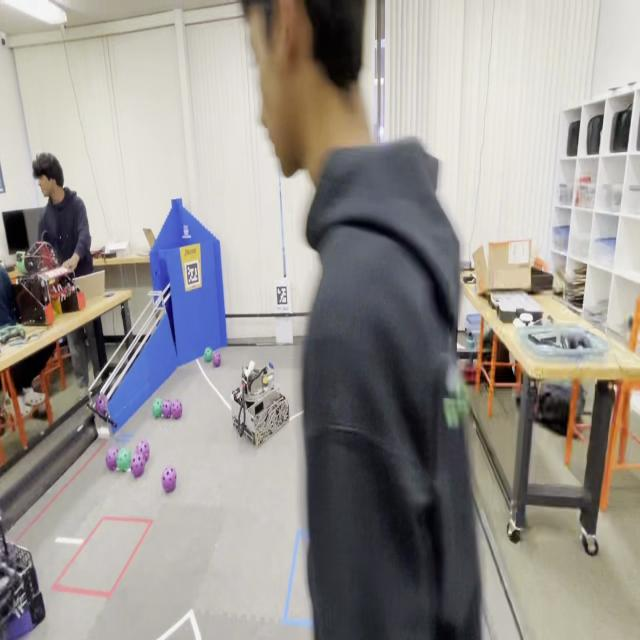artifact_green: (116, 448, 132, 472), (16, 252, 26, 274), (152, 399, 162, 418), (204, 348, 214, 364), (163, 400, 171, 418), (17, 325, 26, 339)
artifact_purple: (162, 467, 176, 493), (131, 453, 145, 478), (136, 440, 150, 462), (95, 393, 107, 417), (106, 447, 118, 471), (172, 400, 182, 419), (162, 400, 171, 418), (213, 352, 221, 367)
